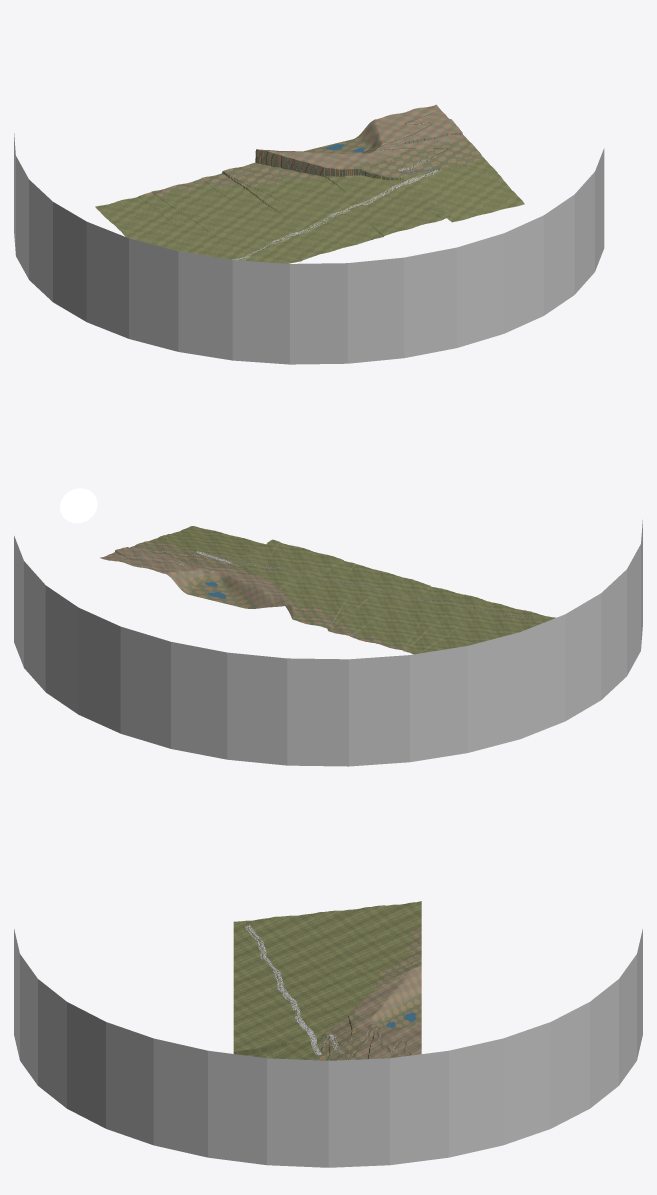
File: independence.glb
3 views of the same model, one above another, from view 1: azimuth 30°, elevation 25°; view 2: azimuth 150°, elevation 25°; view 3: azimuth 270°, elevation 25° (orthographic). The views are drawn at different scales.
Parts seen in each view (by area): view 1: SawatchSkyline, SawatchGround_050, SawatchGround_032, SawatchGround_011, SawatchGround_019, SawatchGround_004, SawatchGround_021, SawatchGround_006, SawatchGround_013, SawatchGround_012, SawatchGround_014, SawatchGround_018 (+17 smaller); view 2: SawatchSkyline, SawatchGround_050, SawatchGround_011, SawatchGround_019, SawatchGround_032, SawatchGround_004, SawatchGround_006, Sun, SawatchGround_013, SawatchGround_012, SawatchGround_014, SawatchGround_018 (+8 smaller); view 3: SawatchSkyline, SawatchGround_050, SawatchGround_004, SawatchGround_011, SawatchGround_003, SawatchGround_006, SawatchGround_019, SawatchGround_013, SawatchGround_012, SawatchGround_018, SawatchGround_009, SawatchGround_014 (+9 smaller).
Part boxes in pixels (<box>): SawatchSkyline: <box>14,133,604,364</box>; SawatchGround_050: <box>256,142,388,176</box>; SawatchGround_032: <box>430,169,524,214</box>; SawatchGround_011: <box>151,183,302,260</box>; SawatchGround_019: <box>230,150,367,236</box>; SawatchGround_004: <box>104,196,211,256</box>; SawatchGround_021: <box>280,156,380,234</box>; SawatchGround_006: <box>139,192,239,260</box>; SawatchGround_013: <box>202,175,316,257</box>; SawatchGround_012: <box>189,178,309,260</box>; SawatchGround_014: <box>216,171,322,254</box>; SawatchGround_018: <box>223,169,372,241</box>; SawatchSkyline: <box>14,520,642,766</box>; SawatchGround_050: <box>201,566,291,613</box>; SawatchGround_011: <box>363,585,430,650</box>; SawatchGround_019: <box>289,566,353,626</box>; SawatchGround_032: <box>165,526,239,554</box>; SawatchGround_004: <box>420,604,504,653</box>; SawatchGround_006: <box>403,599,488,654</box>; Sun: <box>60,488,97,523</box>; SawatchGround_013: <box>335,580,422,635</box>; SawatchGround_012: <box>350,583,430,640</box>; SawatchGround_014: <box>327,578,414,633</box>; SawatchGround_018: <box>320,564,363,629</box>; SawatchSkyline: <box>14,929,642,1167</box>; SawatchGround_050: <box>348,965,421,1030</box>; SawatchGround_004: <box>233,906,421,949</box>; SawatchGround_011: <box>237,929,421,981</box>; SawatchGround_003: <box>233,901,421,947</box>; SawatchGround_006: <box>233,924,421,957</box>; SawatchGround_019: <box>242,968,413,1013</box>; SawatchGround_013: <box>233,953,421,987</box>; SawatchGround_012: <box>233,949,421,984</box>; SawatchGround_018: <box>233,962,421,1014</box>; SawatchGround_009: <box>233,930,415,974</box>; SawatchGround_014: <box>233,961,421,990</box>.
Size of the model in its own units: 14789 by 2590 by 13800.
